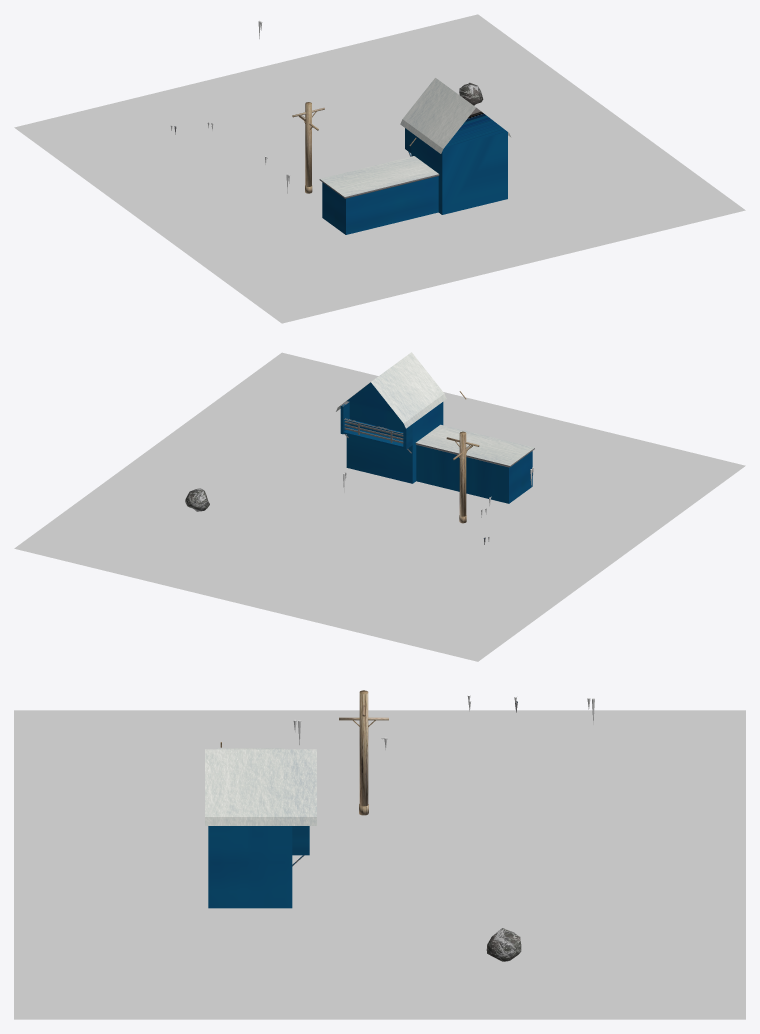
The model's file is escenario midbalcon.glb.
The picture shows the model from 3 angles, top to bottom: view 1: azimuth 30°, elevation 25°; view 2: azimuth 150°, elevation 25°; view 3: azimuth 270°, elevation 25°; orthographic projection. The views are drawn at different scales.
Visible parts, largest first — view 1: Piso.col.002, Cuerpo Principal.col.002, Base Elec.001.col.002; view 2: Piso.col.002, Cuerpo Principal.col.002, Base Elec.001.col.002; view 3: Piso.col.002, Cuerpo Principal.col.002, Base Elec.001.col.002, Piedra 1.col.002.
Part boxes in pixels (x1,y1,x2,y2): Piso.col.002: (14, 14, 745, 323); Cuerpo Principal.col.002: (319, 78, 511, 234); Base Elec.001.col.002: (292, 102, 324, 193); Piso.col.002: (14, 352, 745, 661); Cuerpo Principal.col.002: (336, 352, 534, 503); Base Elec.001.col.002: (446, 431, 479, 523); Piso.col.002: (14, 710, 745, 1019); Cuerpo Principal.col.002: (205, 748, 316, 908); Base Elec.001.col.002: (339, 690, 388, 815); Piedra 1.col.002: (486, 928, 521, 961).
Size of the model in its own units: 10 by 2.09 by 10.
5 materials, 4 textured.
